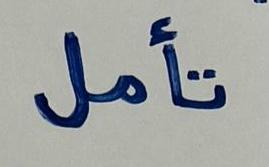hamza: (150, 9, 183, 119)
lam: (22, 13, 94, 144)
meem: (96, 60, 149, 124)
teh: (184, 58, 231, 134)
